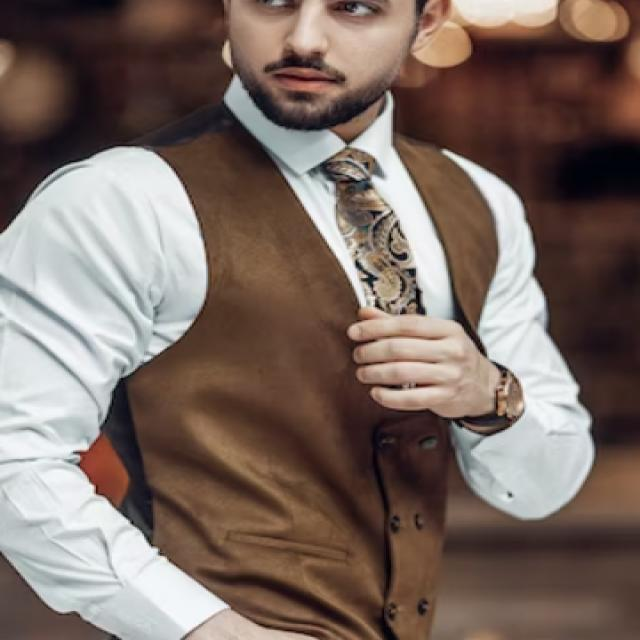Watch: (472, 362, 528, 440)
